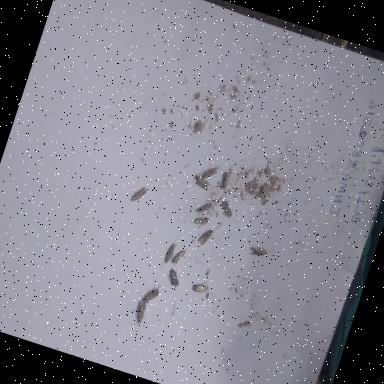pbw: (123, 174, 153, 212), (124, 296, 150, 330), (136, 280, 164, 310), (212, 196, 238, 224), (158, 237, 178, 272), (166, 243, 188, 273), (189, 169, 216, 193), (161, 265, 184, 292), (216, 164, 236, 193), (195, 225, 218, 250), (192, 198, 214, 222), (190, 209, 212, 232), (198, 162, 220, 184), (189, 276, 212, 296), (248, 242, 269, 262)
